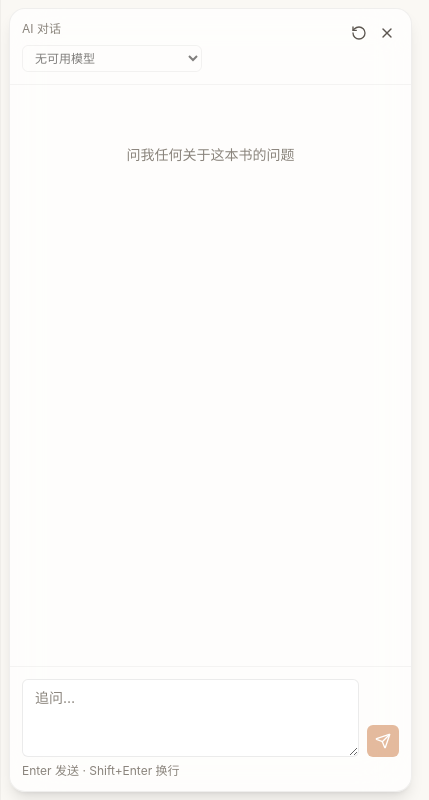
Test case: AISidebar › excludes transport failures from the next chat request history
In the text box with placeholder "追问…": (190, 718) [22,679,359,757], type "会触发网络失败的问题"
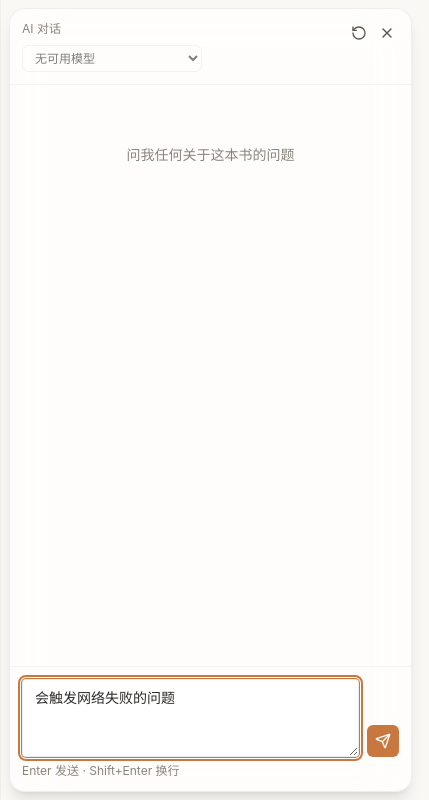
Click the button named "发送": (383, 741) [367,725,399,757]
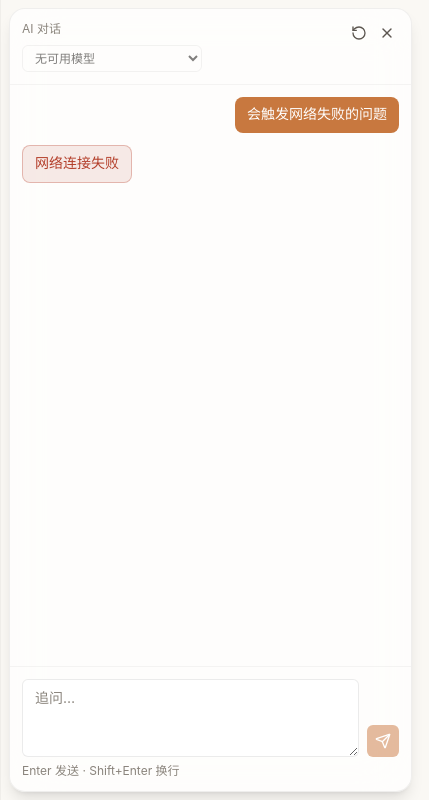
Expected: the message reads "网络连接失败", [35,156,119,171]
In the text box with placeholder "追问…": (190, 718) [22,679,359,757], type "恢复后的问题"
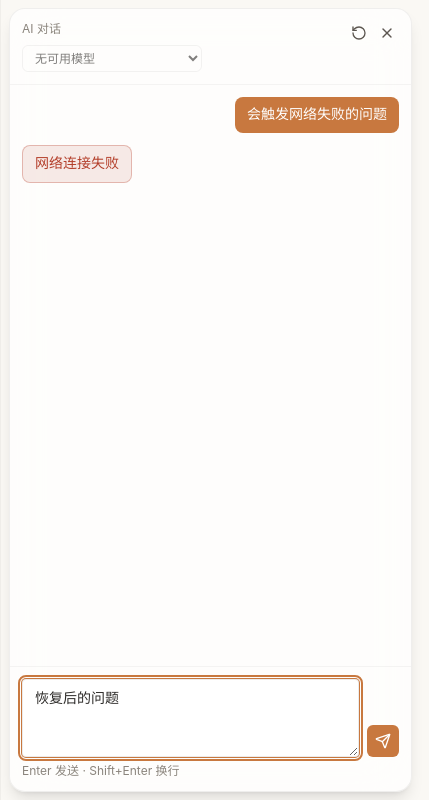
Click the button named "发送": (383, 741) [367,725,399,757]
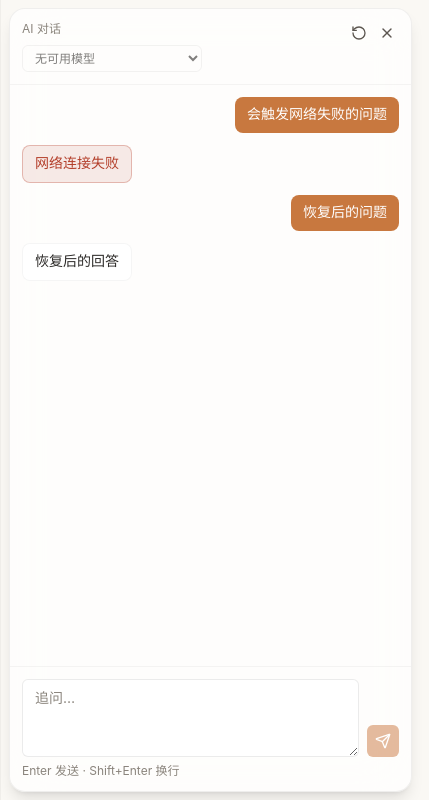
Expected: the text "恢复后的回答" is shown, [22,243,132,281]
